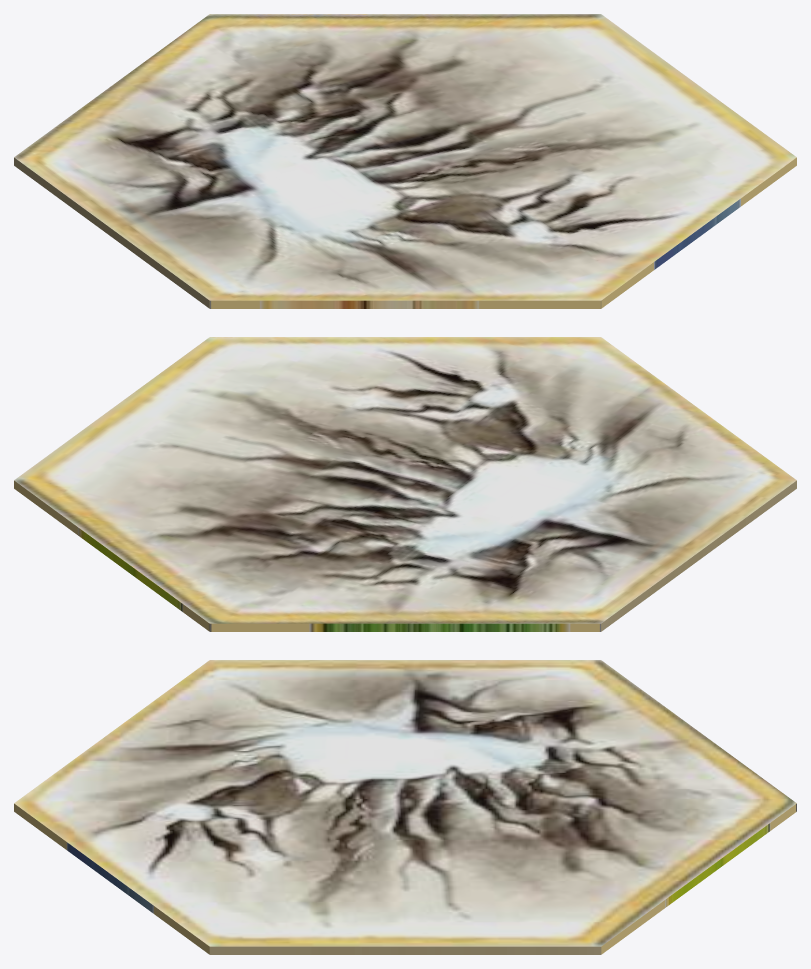
The model's file is mine.001.obj.
3 renders of one model, top to bottom at view 1: azimuth 30°, elevation 25°; view 2: azimuth 150°, elevation 25°; view 3: azimuth 270°, elevation 25°, orthographic.
Parts seen in each view (by area): view 1: mine.001; view 2: mine.001; view 3: mine.001.
Part boxes in pixels (x1,y1,x2,y2): mine.001: (14, 14, 796, 308); mine.001: (14, 337, 796, 631); mine.001: (14, 660, 796, 954).
Bounding box in the file's own units: 1.73 × 0.0232 × 2.
